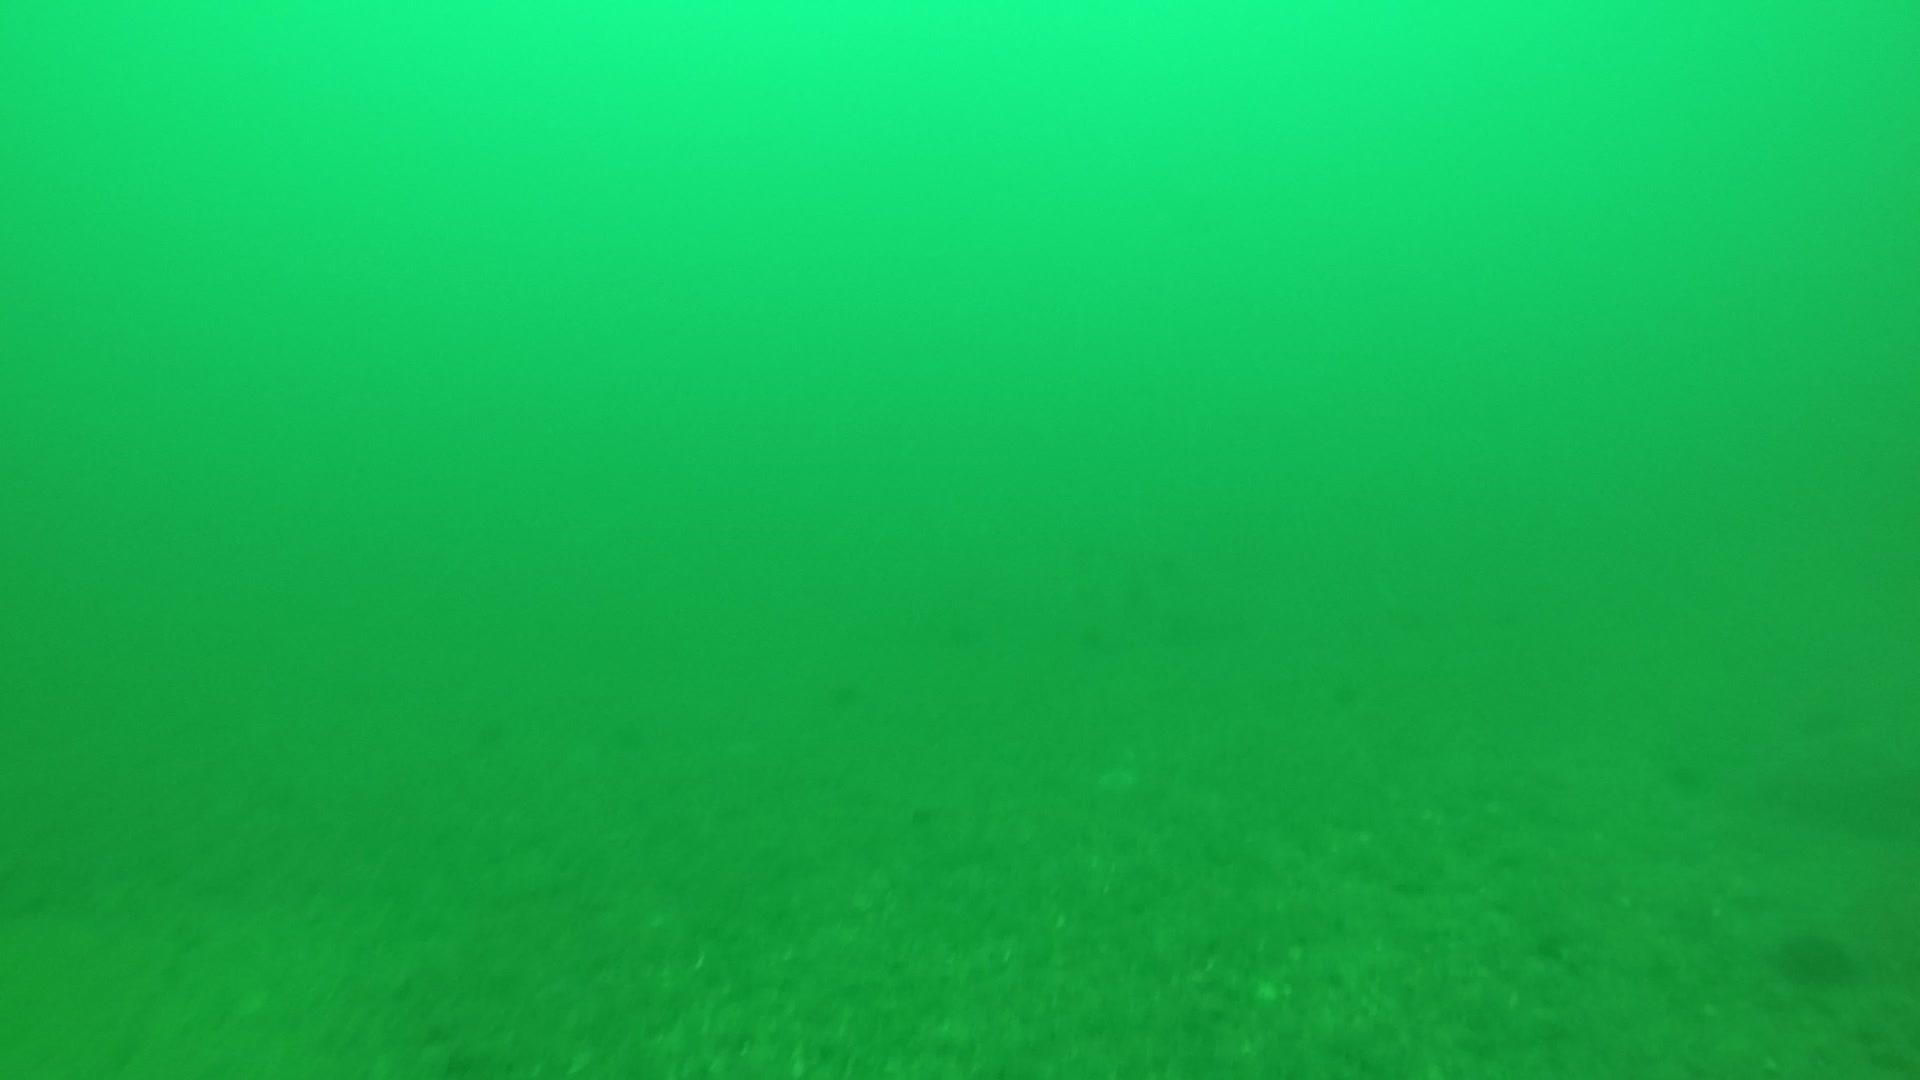echinus: (1770, 920, 1858, 990)
